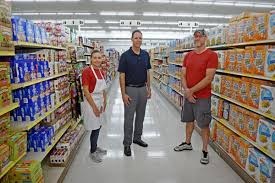Bad: (117, 30, 217, 164), (82, 30, 151, 162)
